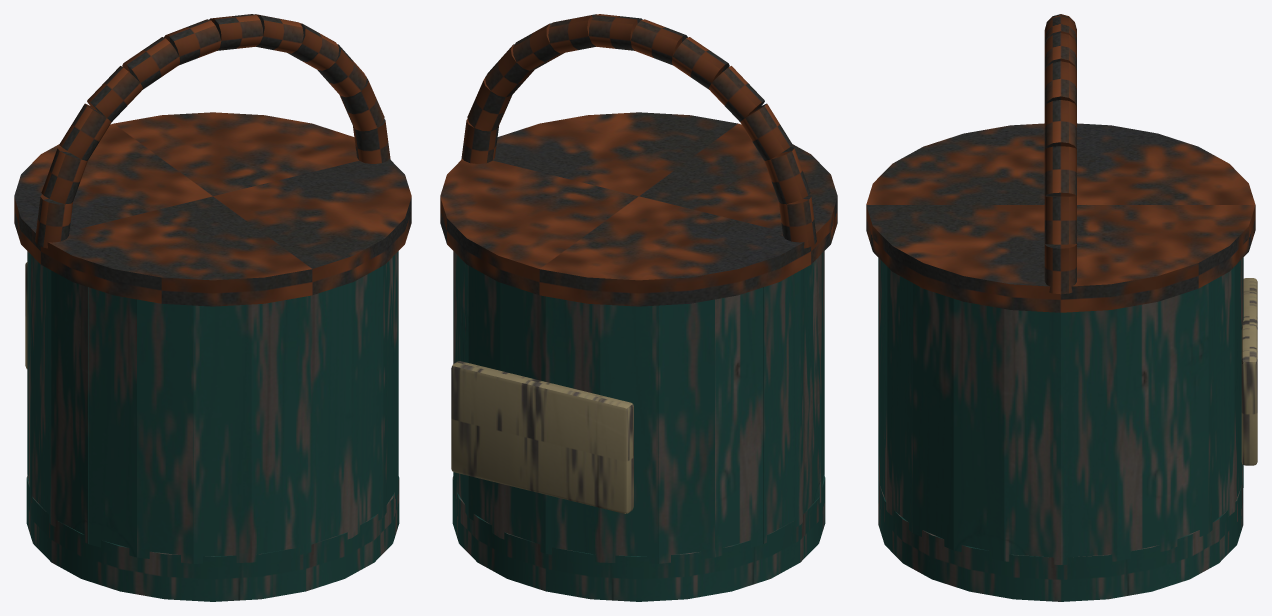
File: SM_PaintCan_Closed_2672910275.fbx
3 views of the same model, side by side, from view 1: azimuth 30°, elevation 25°; view 2: azimuth 150°, elevation 25°; view 3: azimuth 270°, elevation 25° (orthographic). The views are drawn at different scales.
Visible parts, largest first — view 1: SM_PaintCan_Closed_2672910275; view 2: SM_PaintCan_Closed_2672910275; view 3: SM_PaintCan_Closed_2672910275.
Boxes of the visible parts, bbox=[...] form: SM_PaintCan_Closed_2672910275: bbox=[14, 14, 411, 601]; SM_PaintCan_Closed_2672910275: bbox=[440, 14, 837, 601]; SM_PaintCan_Closed_2672910275: bbox=[866, 14, 1257, 601].
Size of what is drawn, in the model's own units: 19.58 by 19.29 by 26.79.
Materials: 3 (3 with a texture image).
